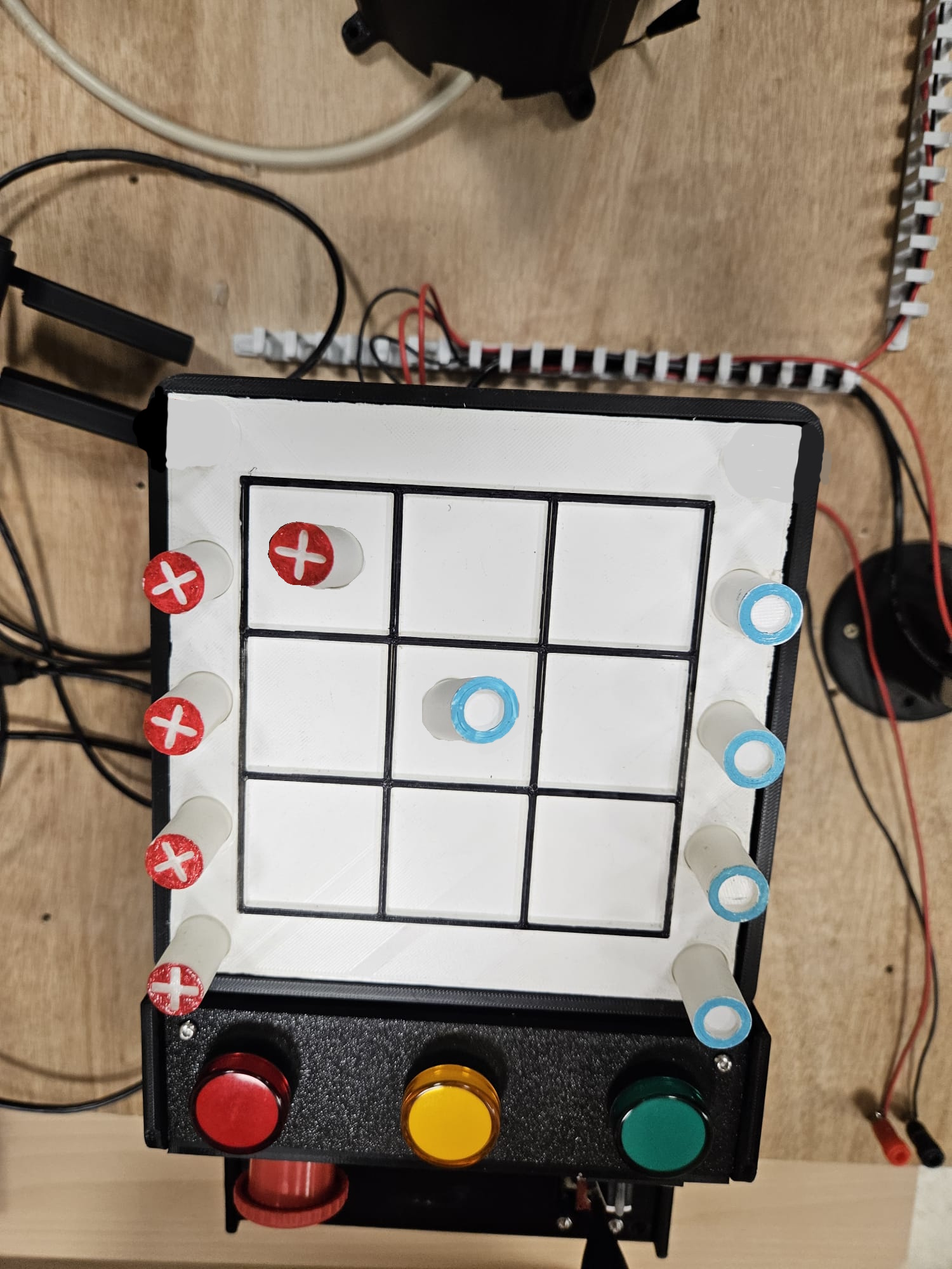blue circle: (451, 676, 519, 743), (738, 582, 803, 645), (724, 728, 784, 789), (708, 865, 769, 922), (692, 997, 751, 1049)
board: (144, 382, 803, 1039)
cells: (550, 502, 703, 650), (247, 484, 392, 633), (400, 495, 547, 641), (538, 653, 687, 794), (392, 645, 537, 784), (245, 636, 387, 775), (528, 796, 673, 930), (387, 788, 527, 921), (245, 779, 381, 912)
grid: (238, 476, 712, 937)
red cross: (268, 522, 333, 586), (143, 551, 204, 614), (143, 696, 204, 756), (145, 833, 203, 889), (147, 963, 204, 1016)
